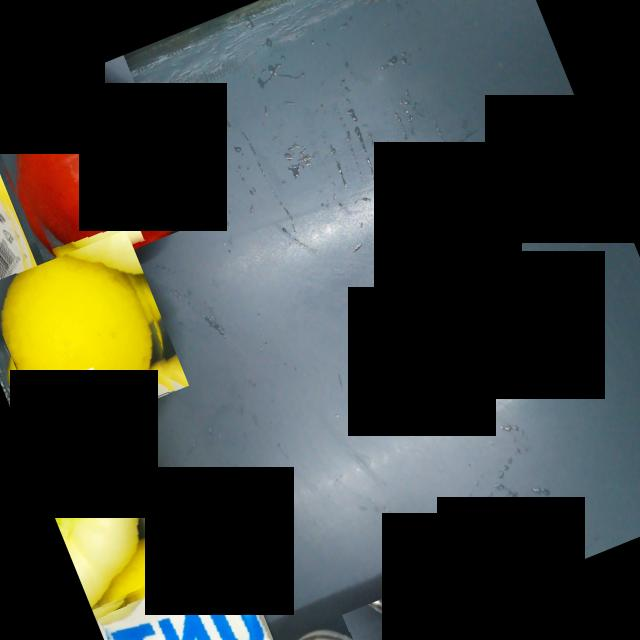butter: (89, 544, 288, 640)
cheese: (0, 121, 71, 324)
lemon: (0, 230, 189, 443)
pepper: (10, 369, 188, 612)
tomatoes: (0, 54, 192, 281)
yogurt: (342, 561, 488, 640), (221, 616, 362, 640)
